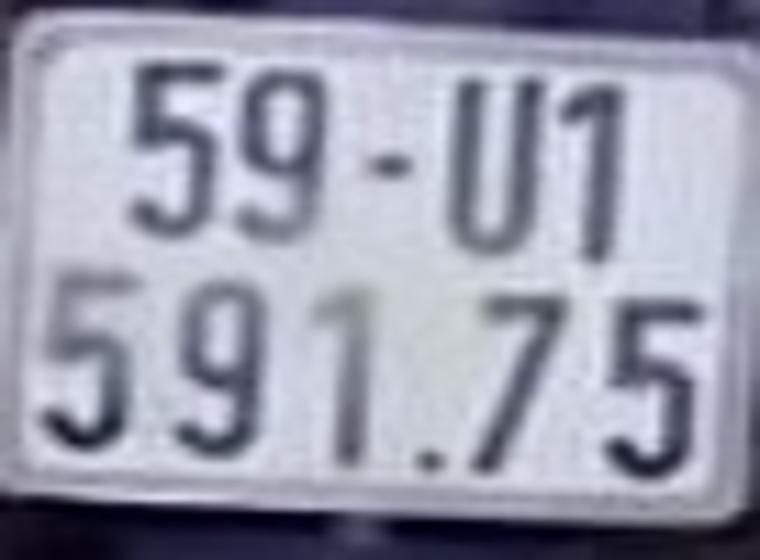-: (367, 158, 409, 178)
.: (417, 455, 440, 471)
1: (315, 287, 371, 468), (563, 85, 613, 262)
5: (607, 298, 698, 478), (46, 265, 129, 452), (127, 63, 214, 238)
7: (477, 291, 565, 472)
9: (179, 281, 262, 457), (241, 66, 322, 244)
U: (453, 81, 541, 250)
